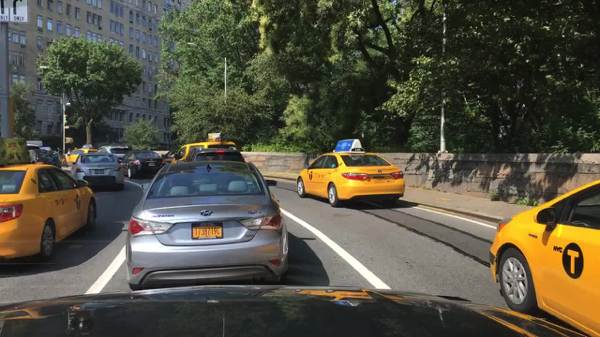bike: (35, 147, 65, 170)
car: (125, 160, 288, 294), (489, 181, 599, 337), (0, 138, 97, 264), (296, 139, 404, 209), (70, 152, 125, 191), (171, 141, 240, 166), (120, 151, 164, 179), (62, 144, 99, 168), (96, 145, 132, 163), (26, 140, 43, 161), (161, 149, 183, 164)
traffic light: (65, 137, 74, 144), (65, 115, 68, 124)
traffic sign: (65, 126, 70, 129)
